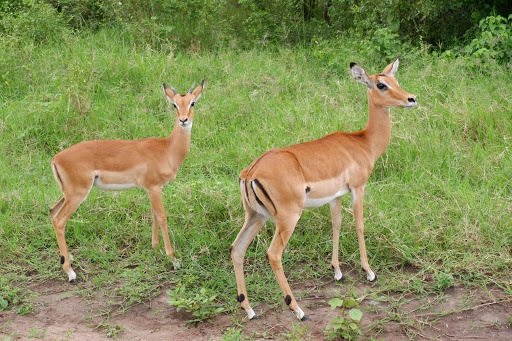impala: (225, 53, 420, 323), (41, 76, 208, 293)
